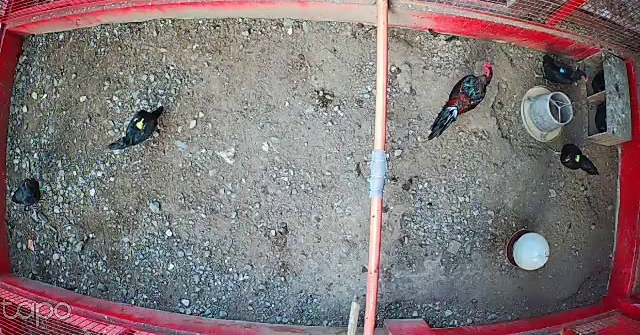Chicken: (108, 99, 170, 151), (529, 50, 591, 90), (550, 142, 598, 177), (9, 177, 50, 209)
Rooster: (421, 61, 498, 140)
Saddle_Color_Blue: (560, 68, 565, 74)
Saddle_Color_Yellow: (136, 114, 147, 130)
Saddle_Color_YellowGreen: (573, 154, 581, 162)
